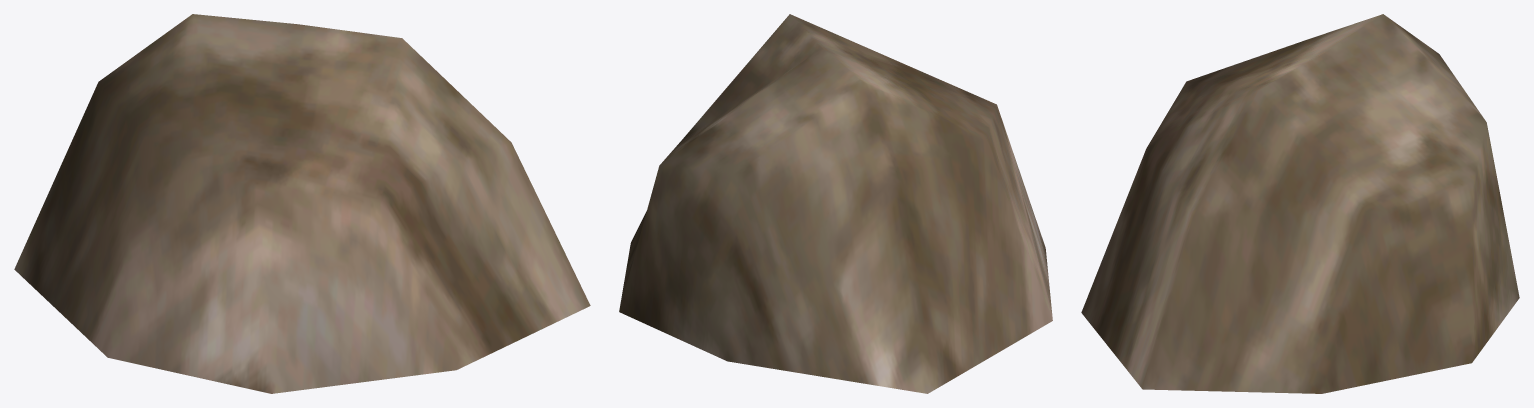
Rendered from OVERHILL_A_01_ROCK85.fbx.
The picture shows the model from 3 angles, left to right: view 1: azimuth 30°, elevation 25°; view 2: azimuth 150°, elevation 25°; view 3: azimuth 270°, elevation 25°; orthographic projection. The views are drawn at different scales.
Parts seen in each view (by area): view 1: OVERHILL_A_01_ROCK85; view 2: OVERHILL_A_01_ROCK85; view 3: OVERHILL_A_01_ROCK85.
Boxes of the visible parts, bbox=[...] form: OVERHILL_A_01_ROCK85: bbox=[14, 14, 590, 393]; OVERHILL_A_01_ROCK85: bbox=[619, 14, 1052, 393]; OVERHILL_A_01_ROCK85: bbox=[1081, 14, 1519, 393].
Bounding box in the file's own units: 3883 × 2312 × 3666.
1 material, 1 textured.
